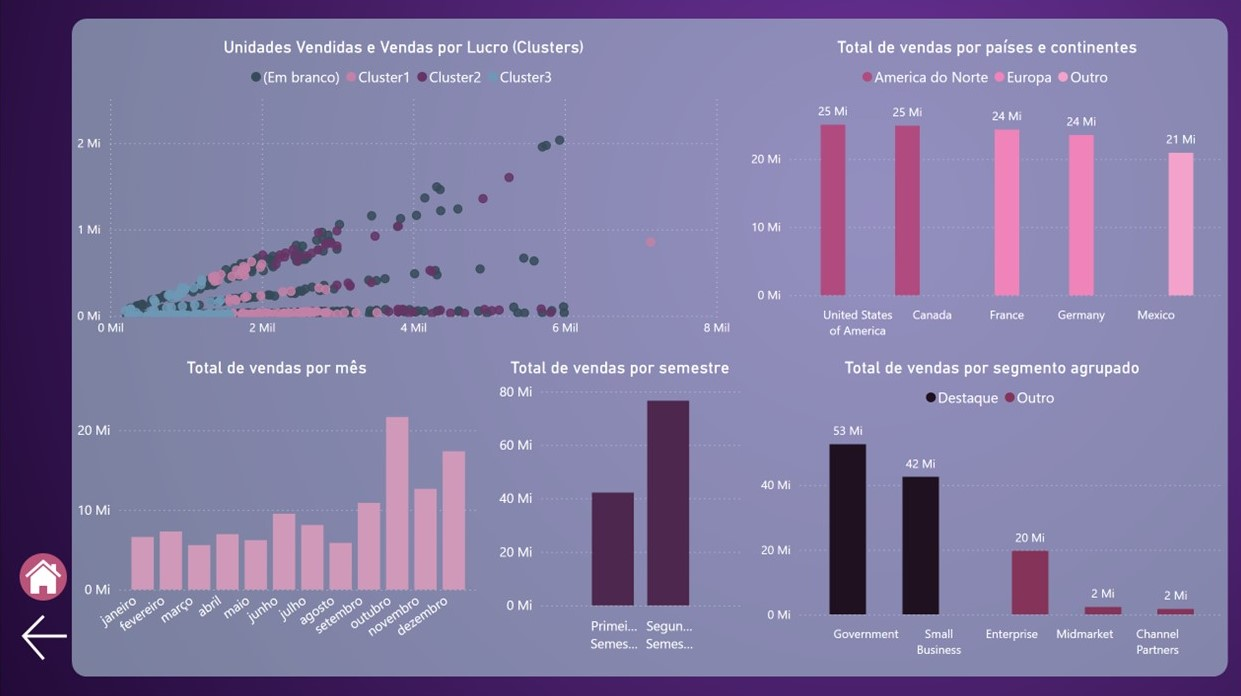

The dashboard page shown, as its layout file describes it:
{"tool":"powerbi","page":{"name":"Categorias & Clusters","canvas":[1280,720],"ordinal":5},"visuals":[{"type":"image","box":[0,0,1280,720.2],"z":0},{"type":"shape","box":[83,26,1172.5,667.2],"z":1000,"group":"g1"},{"type":"actionButton","box":[26.6,621.8,58,63],"z":2000},{"type":"scatterChart","title":"Unidades Vendidas e Vendas por Lucro (Clusters)","fields":{"Y":["Sum(financials. Sales)"],"X":["Sum(financials.Units Sold)"],"Category":["financials.Profit"],"Series":["financials.Profit (clusters)"]},"box":[83,44.8,672.7,312.5],"z":3000,"group":"g1"},{"type":"clusteredColumnChart","title":"Total de vendas por países e continentes","fields":{"Y":["Sum(financials. Sales)"],"Category":["financials.Country"],"Series":["financials.Continentes"]},"box":[766.8,44.8,488.7,312.5],"z":4000,"group":"g1"},{"type":"clusteredColumnChart","title":"Total de vendas por mês","fields":{"Y":["Sum(financials. Sales)"],"Category":["financials.Date.Variation.Hierarquia de datas.Mês"]},"box":[83,369.5,415.6,305.9],"z":5000,"group":"g1"},{"type":"clusteredColumnChart","title":"Total de vendas por semestre","fields":{"Y":["Sum(financials. Sales)"],"Category":["financials.Semestres"]},"box":[510.8,369.5,256,305.9],"z":6000,"group":"g1"},{"type":"clusteredColumnChart","title":"Total de vendas por segmento agrupado","fields":{"Y":["Sum(financials. Sales)"],"Category":["financials.Segment"],"Series":["financials.Segmentos agrupados"]},"box":[776.7,369.5,478.8,311.4],"z":7000,"group":"g1"},{"type":"group","id":"g1","title":"Grupo 1","box":[83,26,1173,668],"z":7001},{"type":"image","box":[25,562,58,60],"z":7002}]}

Visuals, with their boxes in screenshot pixels (x1, y1, x2, y2), scaled from the page's 1280x720 canvas onto the 1241x696 screenshot:
image: <region>0, 0, 1240, 695</region>
shape: <region>80, 25, 1217, 670</region>
actionButton: <region>26, 601, 82, 662</region>
"Unidades Vendidas e Vendas por Lucro (Clusters)" scatterChart: <region>80, 43, 733, 345</region>
"Total de vendas por países e continentes" clusteredColumnChart: <region>743, 43, 1217, 345</region>
"Total de vendas por mês" clusteredColumnChart: <region>80, 357, 483, 653</region>
"Total de vendas por semestre" clusteredColumnChart: <region>495, 357, 743, 653</region>
"Total de vendas por segmento agrupado" clusteredColumnChart: <region>753, 357, 1217, 658</region>
"Grupo 1" group: <region>80, 25, 1218, 671</region>
image: <region>24, 543, 80, 601</region>
